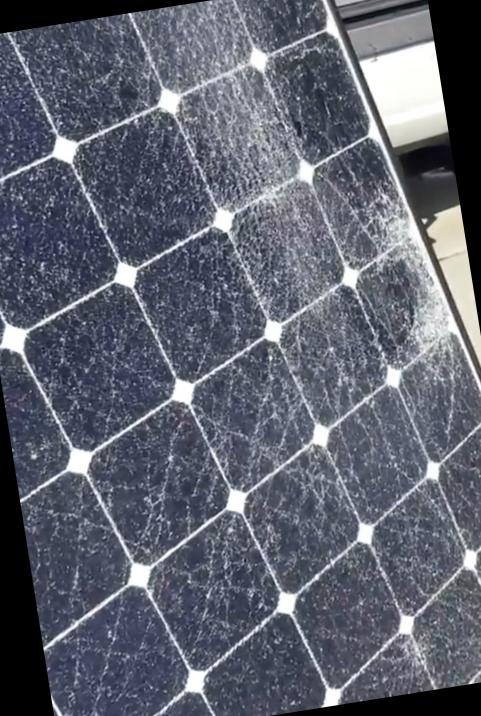Crack: (130, 0, 308, 229), (345, 177, 467, 400)
